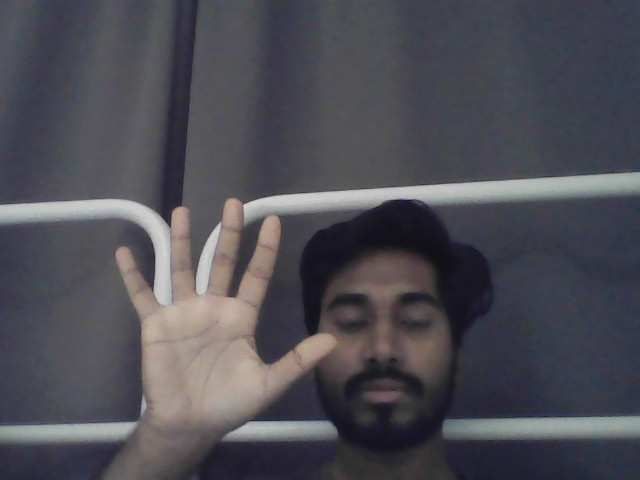hello: (114, 198, 337, 428)
